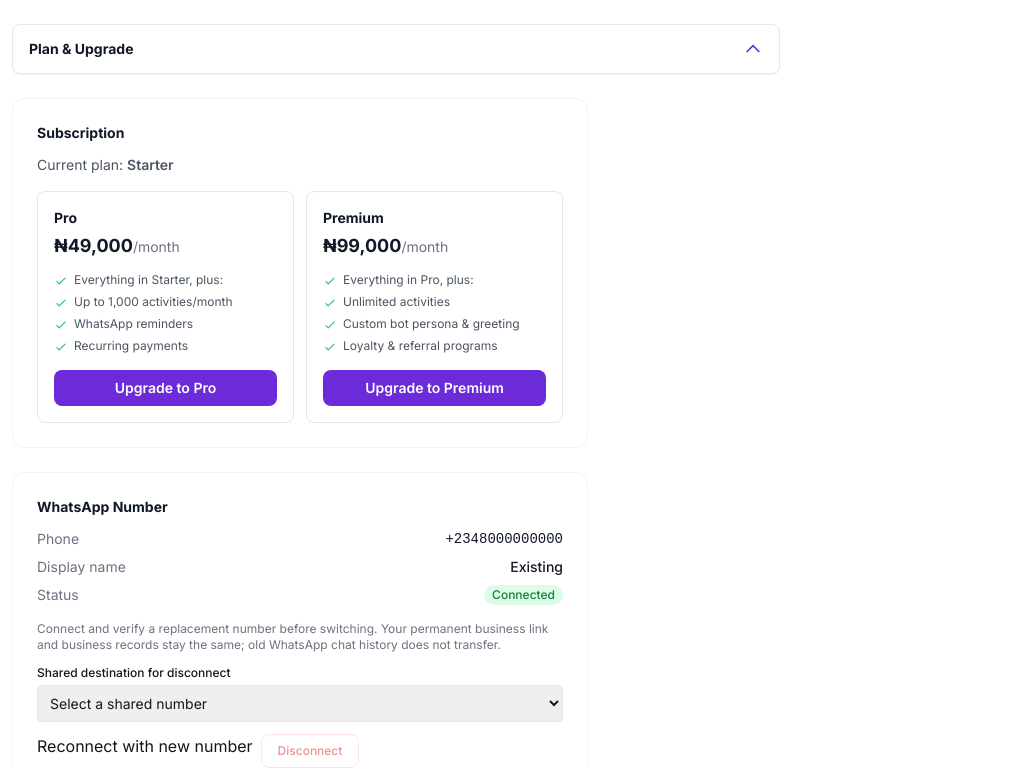
Test case: rendered merchant continuity journeys (synthetic HTTP) › requires an explicit shared destination and carries it through MFA and disconnect
Expected: the button "Disconnect" is disabled, [261, 734, 359, 767]
Select "+2348000000002 (NG)" in the dropdown labelled "Shared destination for disconnect" at (300, 704), box [37, 685, 563, 722]
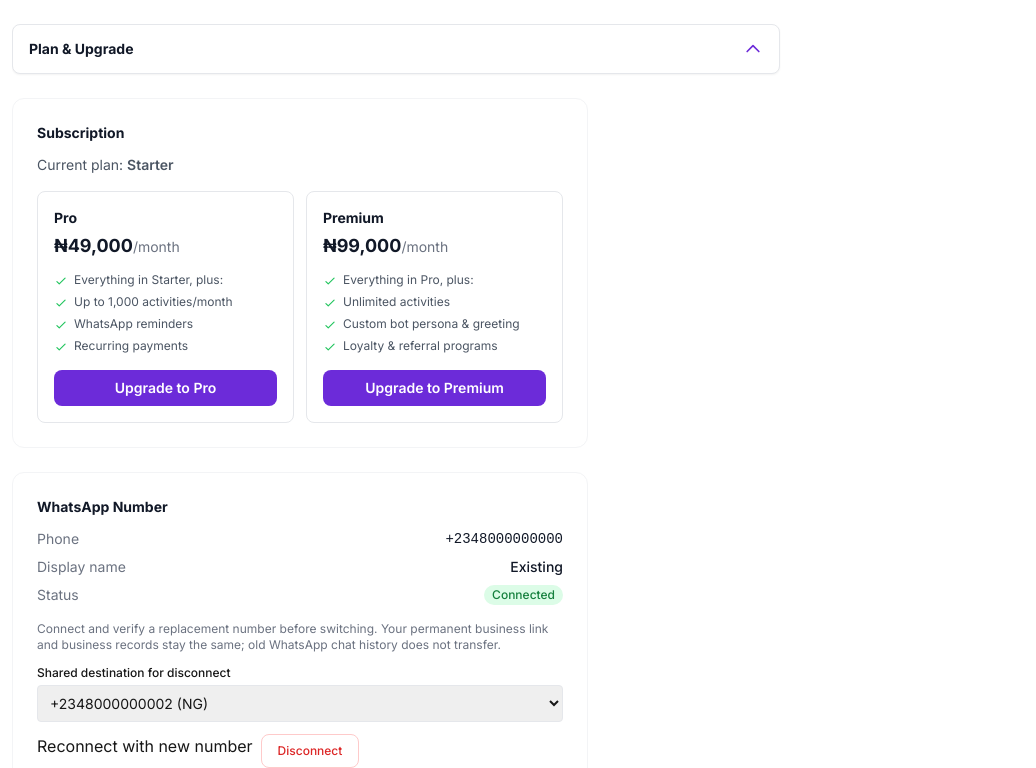
Click the button "Disconnect" at (310, 751), box [261, 734, 359, 767]
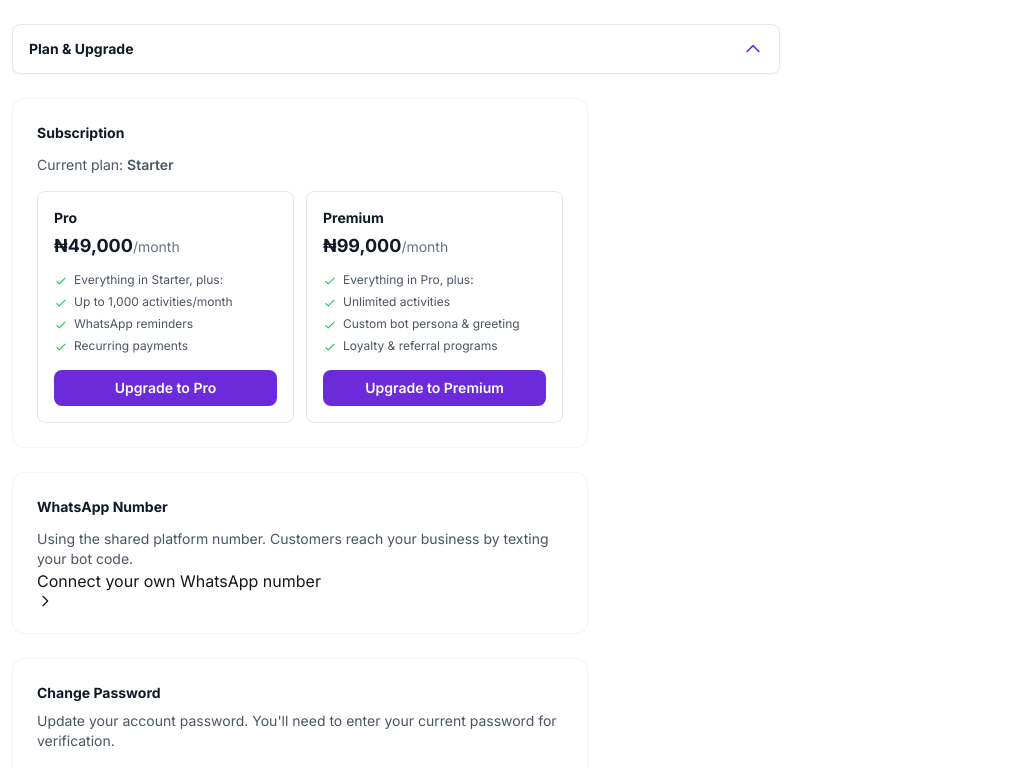
Result: the text "Using the shared platform number" is shown at [37, 530, 549, 567]
